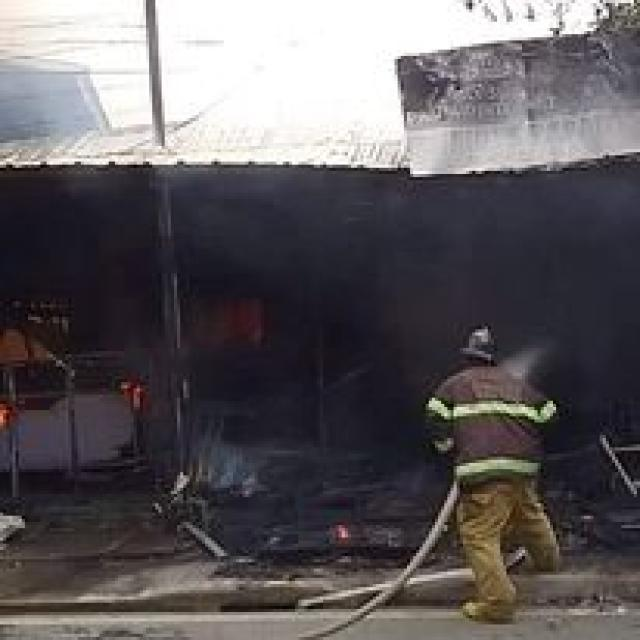Fire: (175, 278, 272, 359)
